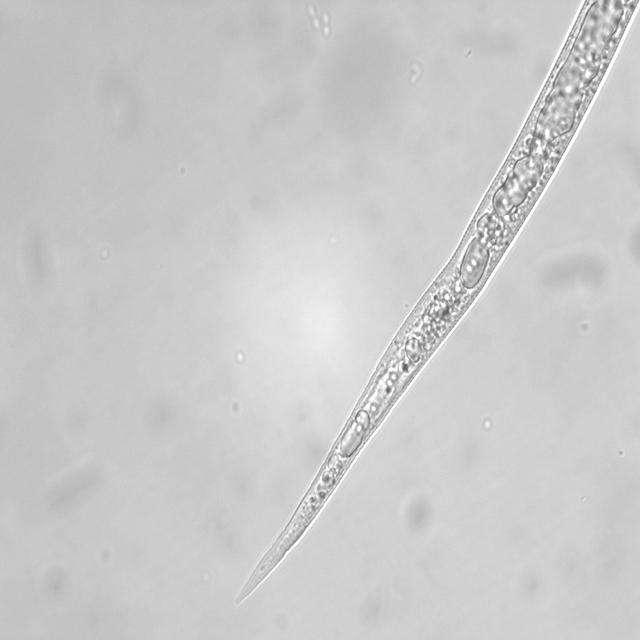Meloidogyne: (228, 1, 640, 610)
